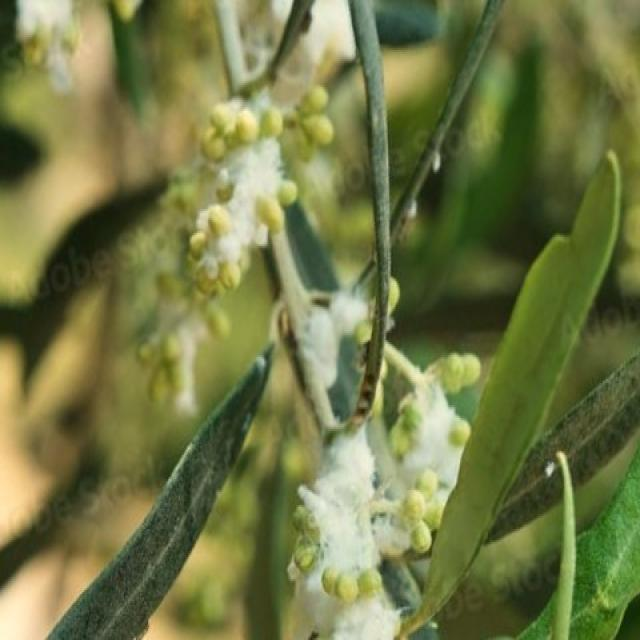Psyllid: (288, 427, 399, 638), (271, 235, 368, 427), (188, 137, 295, 296), (389, 381, 468, 490)
